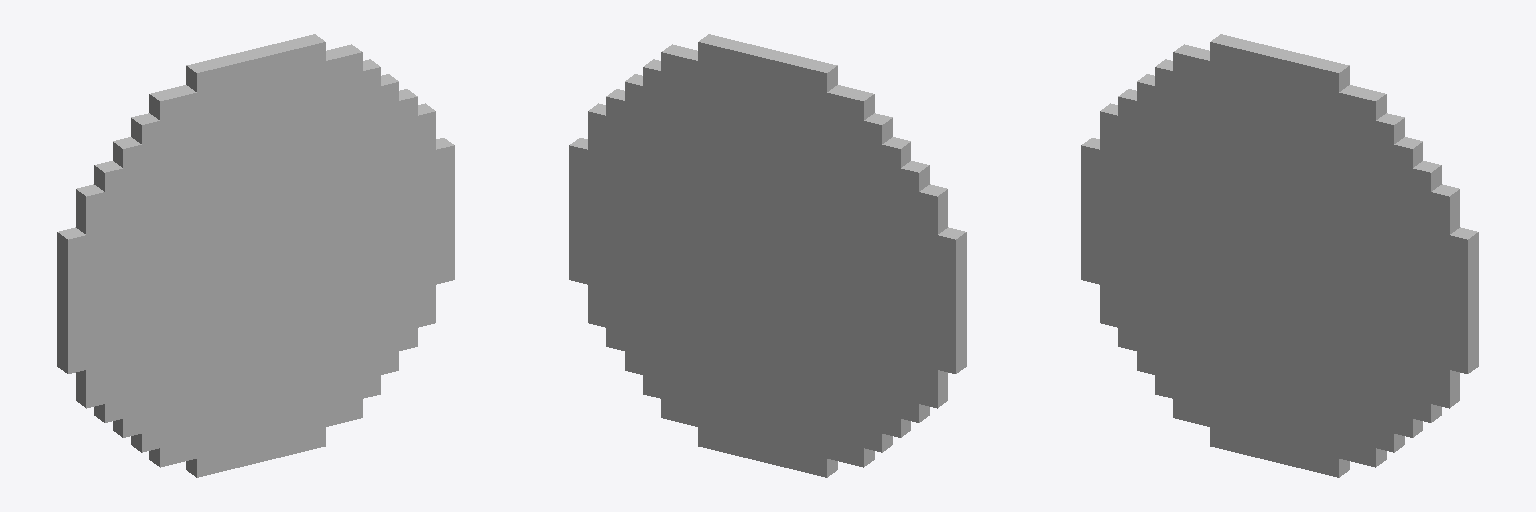
File: clock.obj
3 views of the same model, side by side, from view 1: azimuth 30°, elevation 25°; view 2: azimuth 150°, elevation 25°; view 3: azimuth 330°, elevation 25° (orthographic).
Visible parts, largest first — view 1: clock; view 2: clock; view 3: clock.
Boxes of the visible parts, box(x1,y1,x2,y2) form: clock: box(57, 34, 454, 477); clock: box(569, 34, 966, 477); clock: box(1081, 34, 1478, 477).
Bounding box in the file's own units: 21 × 21 × 1.